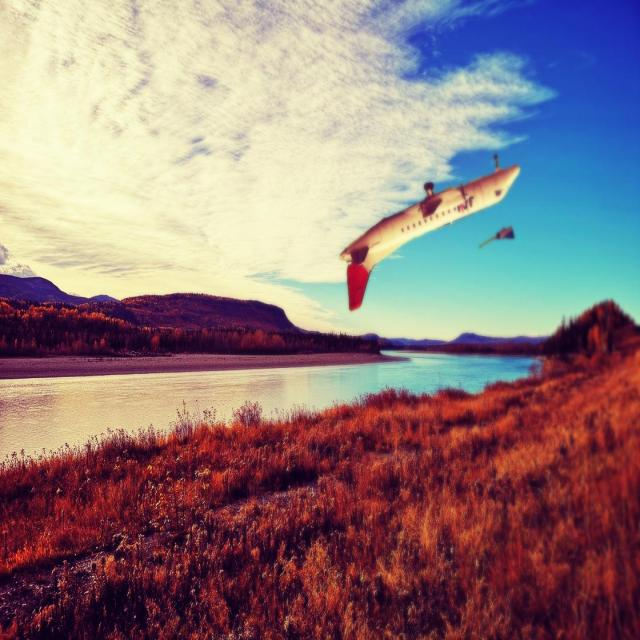airplane: (338, 152, 520, 311)
